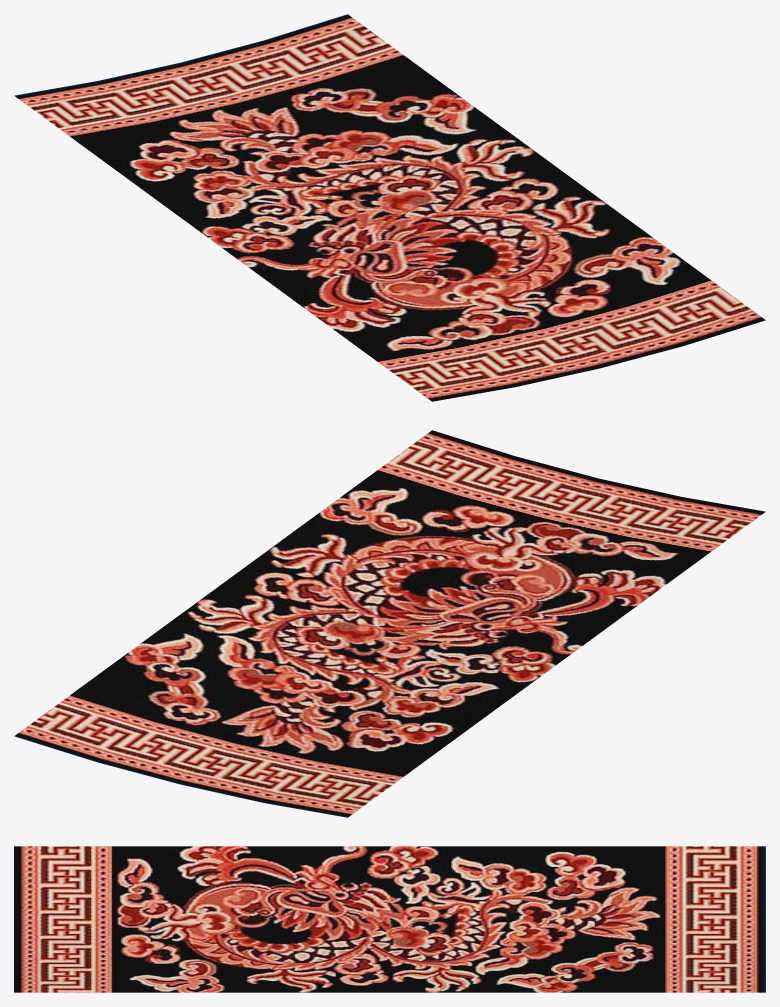
Rendered from rug 2.FBX.
The picture shows the model from 3 angles, top to bottom: view 1: azimuth 30°, elevation 25°; view 2: azimuth 150°, elevation 25°; view 3: azimuth 270°, elevation 25°; orthographic projection. The views are drawn at different scales.
Visible parts, largest first — view 1: rug 2 dragon; view 2: rug 2 dragon; view 3: rug 2 dragon.
Boxes of the visible parts, box(x1,y1,x2,y2) form: rug 2 dragon: box(14, 14, 765, 401); rug 2 dragon: box(14, 430, 765, 817); rug 2 dragon: box(14, 846, 765, 992).
Size of the model in its own units: 70.93 by 1.55 by 154.
1 material, 1 textured.
